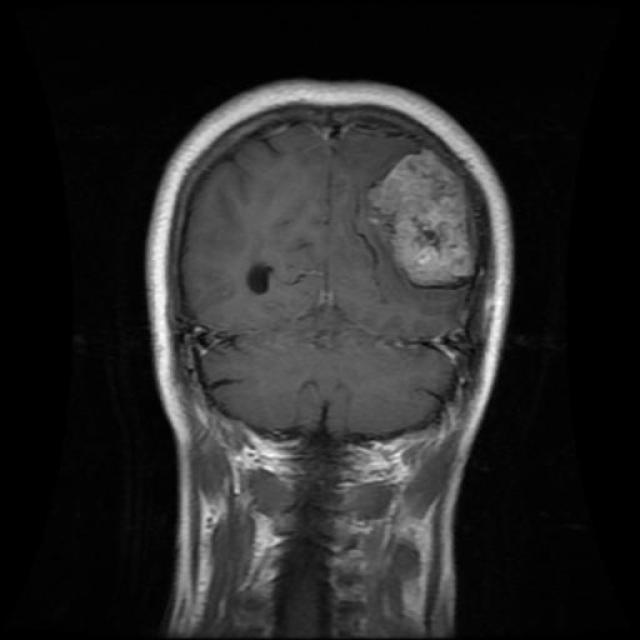meningioma: (370, 156, 466, 292)
